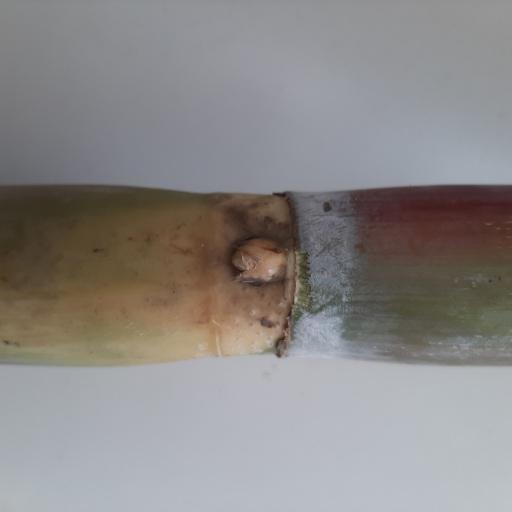Bud: (231, 236, 290, 284)
